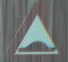Speed Breaker ahead: (9, 7, 60, 55)
